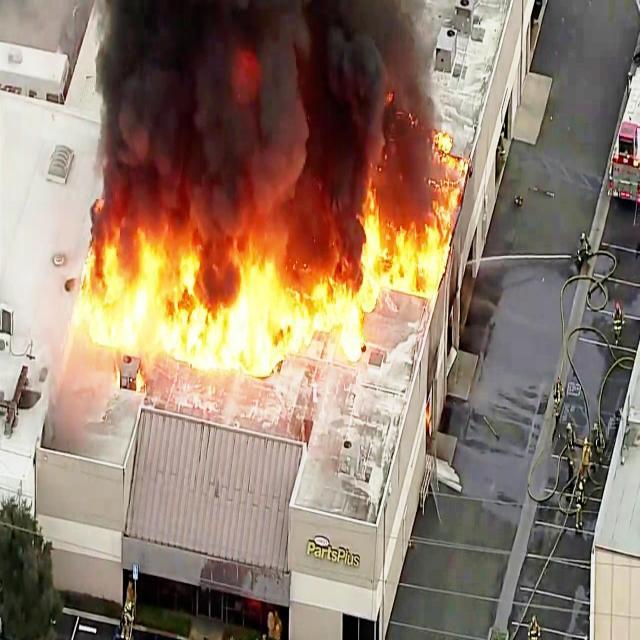Fire: (274, 236, 386, 360), (168, 252, 282, 357), (79, 234, 158, 354), (358, 218, 444, 300)
Smoke: (118, 6, 406, 212)
